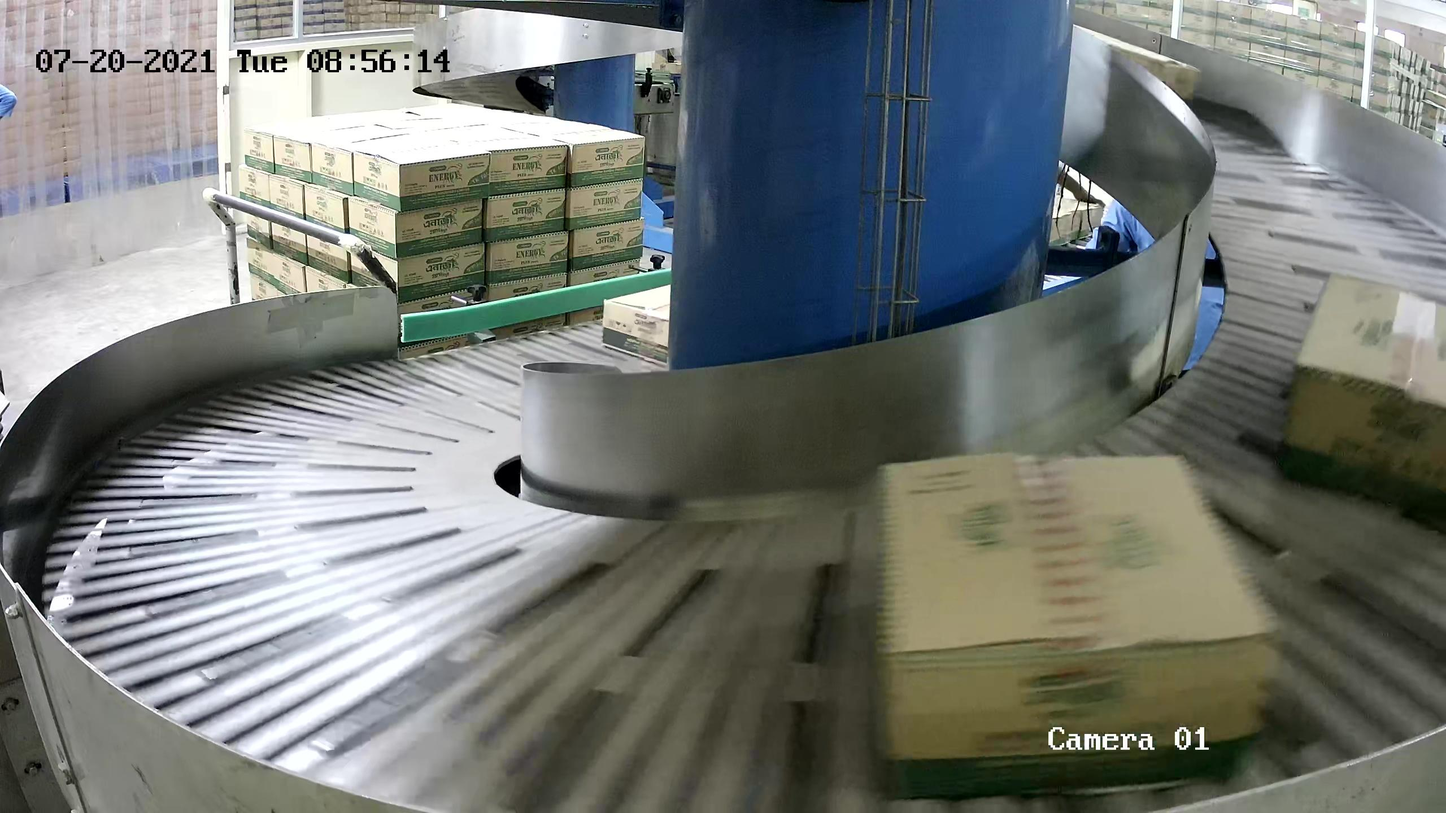Box: (872, 447, 1289, 802), (1281, 269, 1446, 520), (601, 283, 672, 368)
